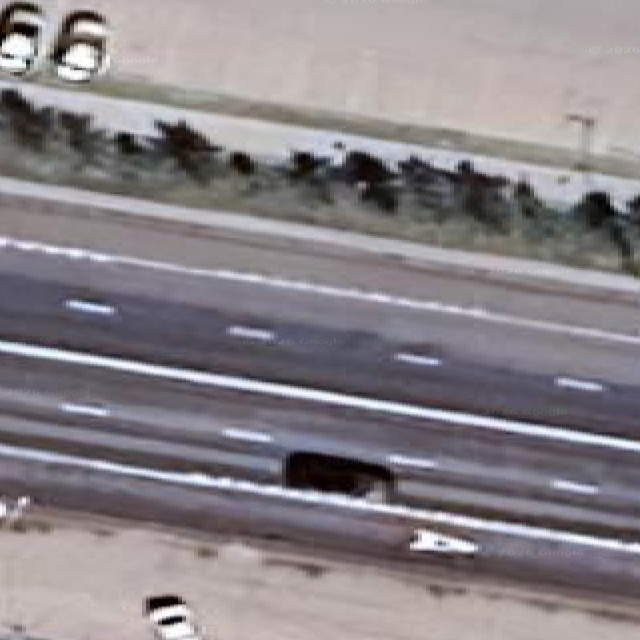car: (51, 13, 108, 80), (0, 2, 44, 75), (144, 596, 199, 639), (408, 528, 477, 555), (0, 495, 30, 524)
